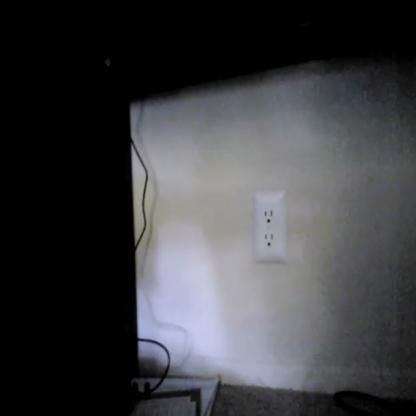OUTLET: (252, 192, 286, 262)
